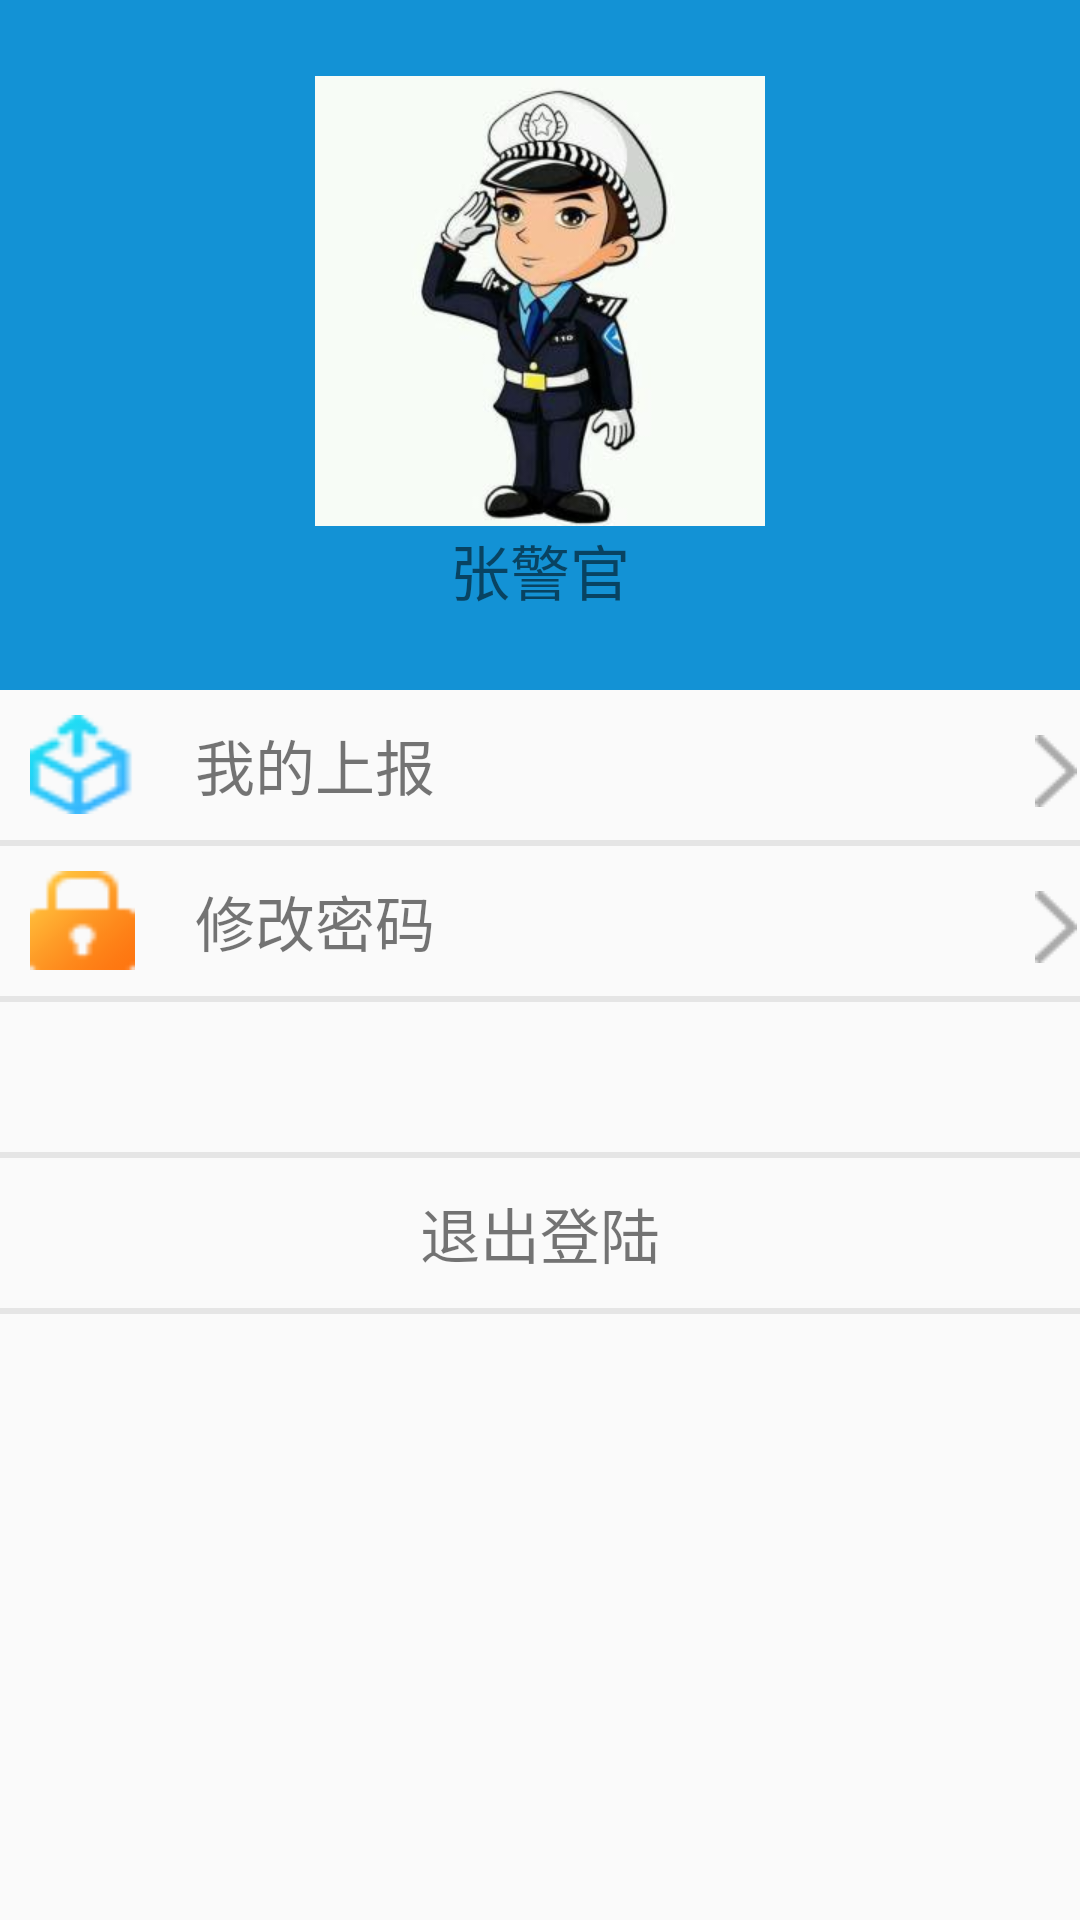

Where to tap for icons on this 1080px x 1920px app screen, as [x,y]:
detail: [1056,771], [1056,927]
reset: [82,920]
